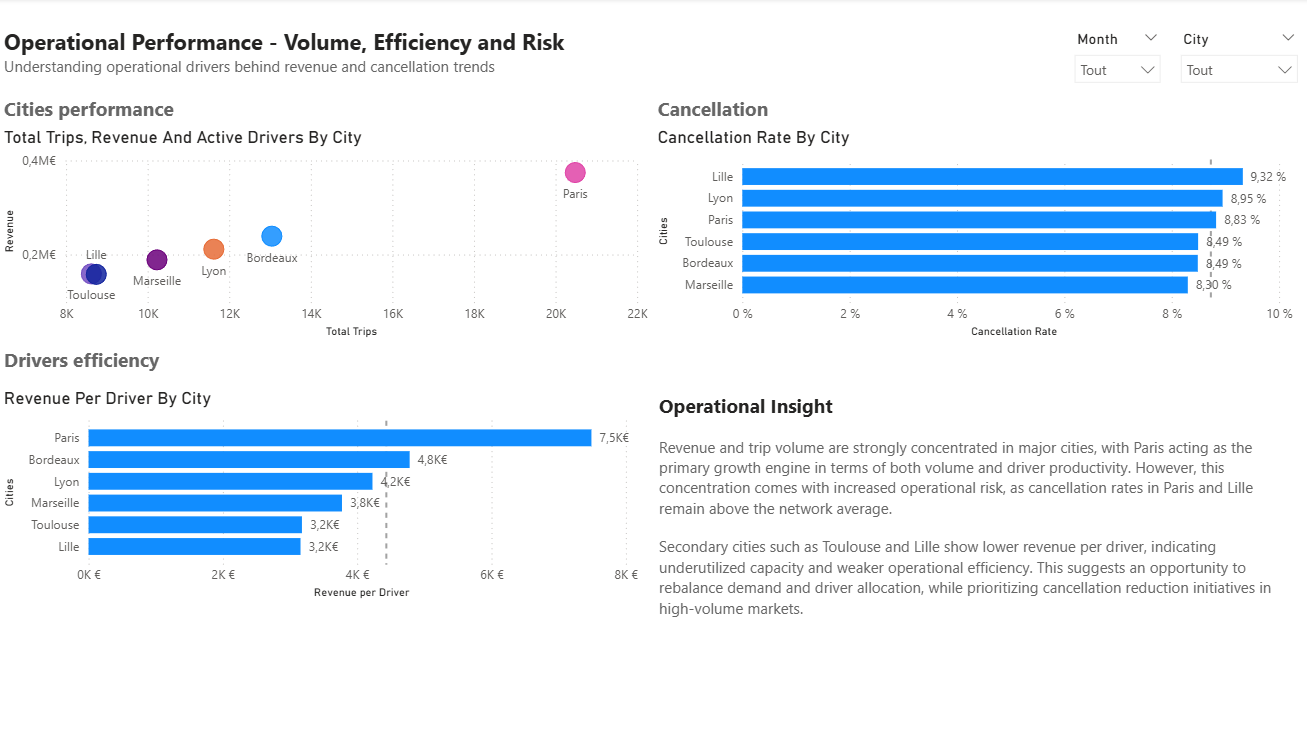

This screenshot's page, from the dashboard's own definition file:
{"tool":"powerbi","page":{"name":"Operational Performance ","canvas":[1280,720],"ordinal":2},"visuals":[{"type":"textbox","box":[0,23.3,564,67.2],"z":0},{"type":"scatterChart","title":"Total Trips, Revenue And Active Drivers By City","fields":{"X":["hype_taxi_trips_2025.Total Trips"],"Y":["hype_taxi_trips_2025.Revenue"],"Size":["hype_taxi_trips_2025.Active Drivers"],"Series":["hype_taxi_cities.city_name"]},"box":[0,126.2,639.5,211],"z":1000},{"type":"textbox","box":[0,90.6,564,35.7],"z":2000},{"type":"textbox","box":[0,336.2,564,45.3],"z":3000},{"type":"clusteredBarChart","title":"Revenue Per Driver By City","fields":{"Category":["hype_taxi_cities.city_name"],"Y":["hype_taxi_trips_2025.Revenue per Driver"]},"box":[0,381.5,639.5,211.3],"z":4000},{"type":"textbox","box":[639.5,90.6,564,35.7],"z":5000},{"type":"clusteredBarChart","title":"Cancellation Rate By City","fields":{"Category":["hype_taxi_cities.city_name"],"Y":["hype_taxi_trips_2025.Cancellation Rate"]},"box":[639.5,126.2,639,211],"z":6000},{"type":"slicer","fields":{"Values":["hype_taxi_cities.city_name"]},"box":[1145.8,27.4,134.5,63.1],"z":7000},{"type":"slicer","fields":{"Values":["Dates.Month"]},"box":[1041.5,27.4,104.3,60.4],"z":8000},{"type":"textbox","box":[640.7,380.9,639.3,255.4],"z":9000}]}

Visuals, with their boxes in screenshot pixels (x1, y1, x2, y2), scaled from the page's 1280x720 canvas onto the 1307x731 screenshot:
textbox: [0, 24, 576, 92]
"Total Trips, Revenue And Active Drivers By City" scatterChart: [0, 128, 653, 342]
textbox: [0, 92, 576, 128]
textbox: [0, 341, 576, 387]
"Revenue Per Driver By City" clusteredBarChart: [0, 387, 653, 602]
textbox: [653, 92, 1229, 128]
"Cancellation Rate By City" clusteredBarChart: [653, 128, 1305, 342]
slicer - hype_taxi_cities.city_name: [1170, 28, 1306, 92]
slicer - Dates.Month: [1063, 28, 1170, 89]
textbox: [654, 387, 1306, 646]
